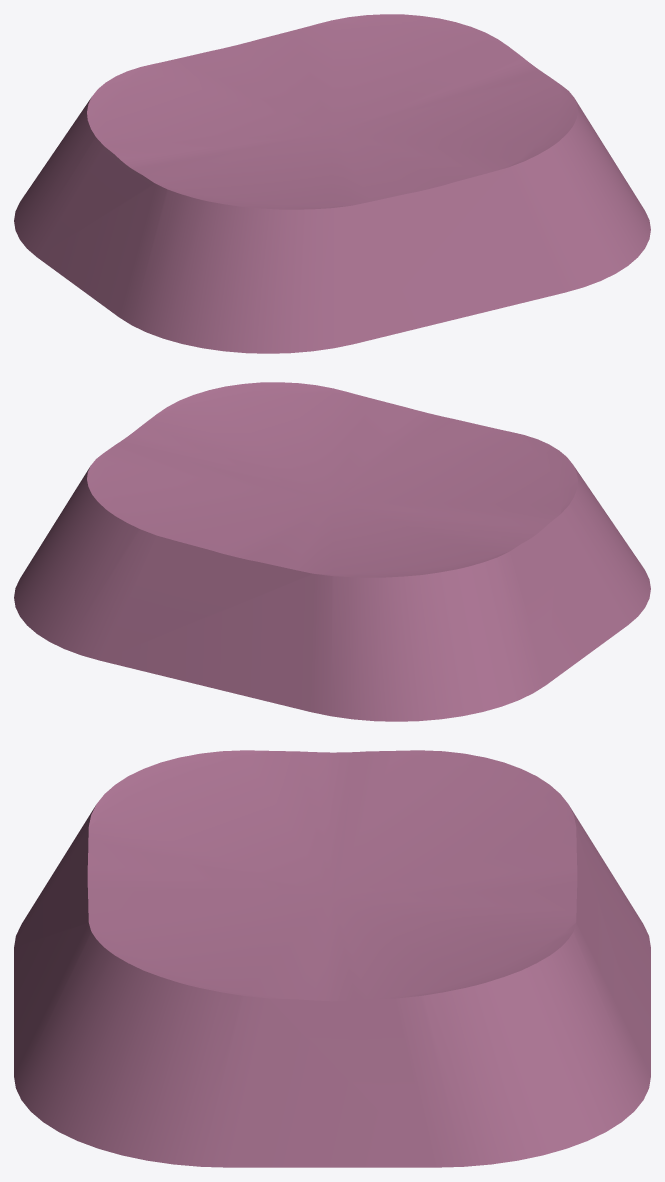
File: original-6.obj
3 views of the same model, one above another, from view 1: azimuth 30°, elevation 25°; view 2: azimuth 150°, elevation 25°; view 3: azimuth 270°, elevation 25° (orthographic). The views are drawn at different scales.
Visible parts, largest first — view 1: Group6/mesh6/mesh6-geometry#mesh6-geometry; view 2: Group6/mesh6/mesh6-geometry#mesh6-geometry; view 3: Group6/mesh6/mesh6-geometry#mesh6-geometry.
Part boxes in pixels (x1,y1,x2,y2): Group6/mesh6/mesh6-geometry#mesh6-geometry: (14,14,650,353); Group6/mesh6/mesh6-geometry#mesh6-geometry: (14,382,650,721); Group6/mesh6/mesh6-geometry#mesh6-geometry: (14,750,650,1167).
Size of the model in its own units: 0.0542 by 0.0116 by 0.0469.
